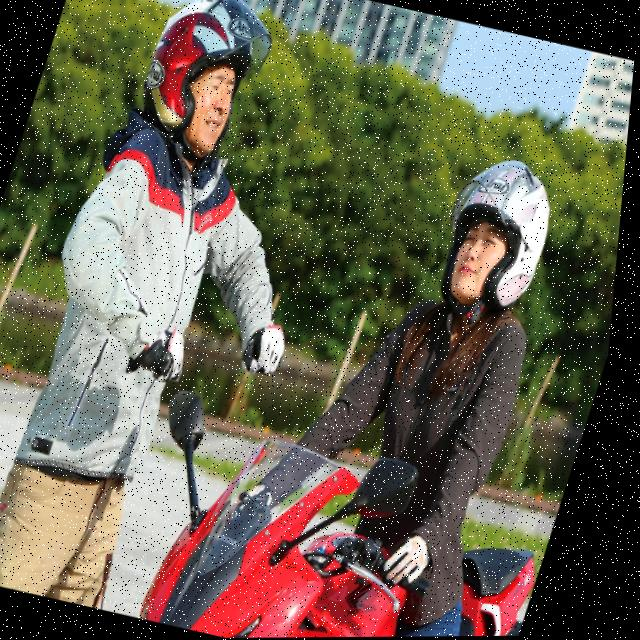helmet: (116, 0, 288, 183), (421, 143, 580, 340)
